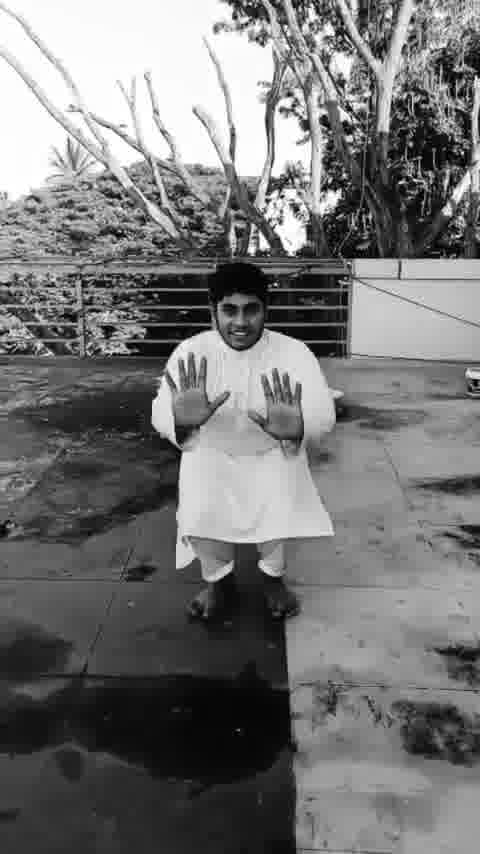duck: (142, 259, 340, 634)
